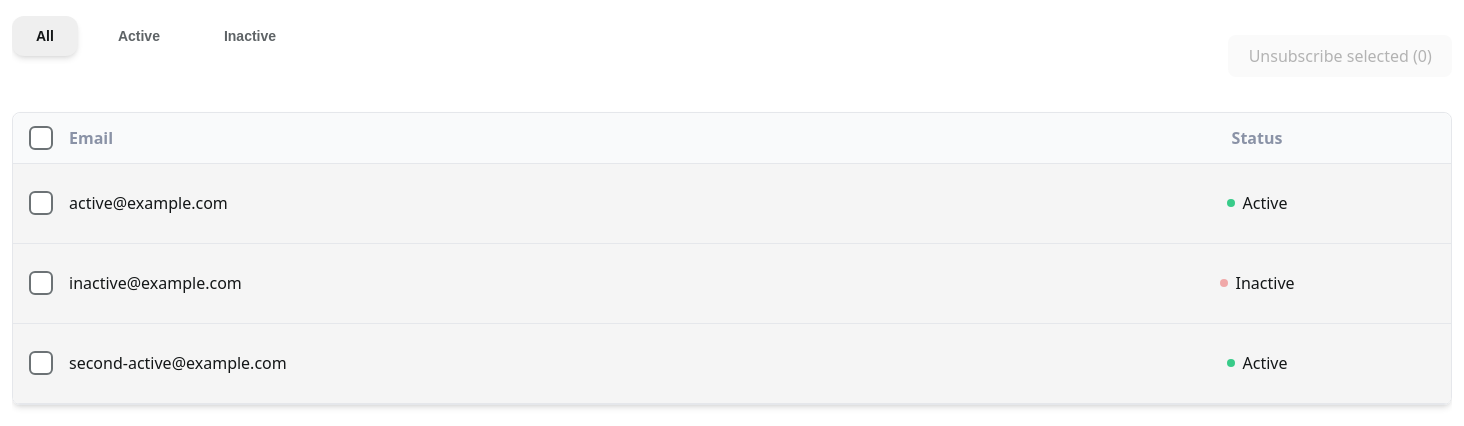
UI Component: TableSubscriptions › should select all filtered rows and show selected counter
This screenshot has width=1464, height=426.
Click the button "Active" at (139,36), box [94,16,184,56]
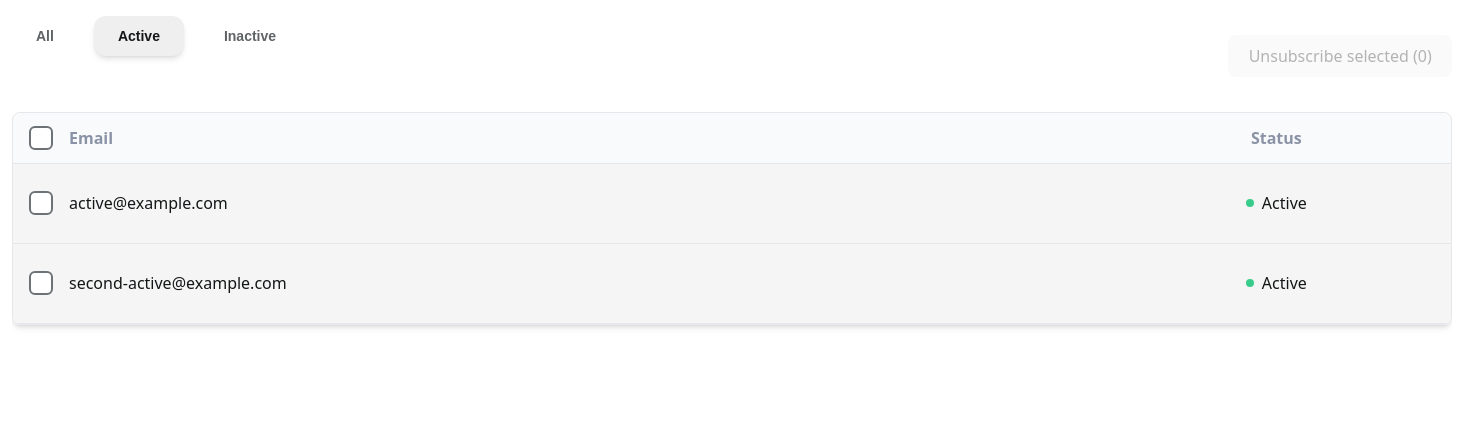
Click the checkbox next to "Email" at (41,138), box [29,126,53,150]
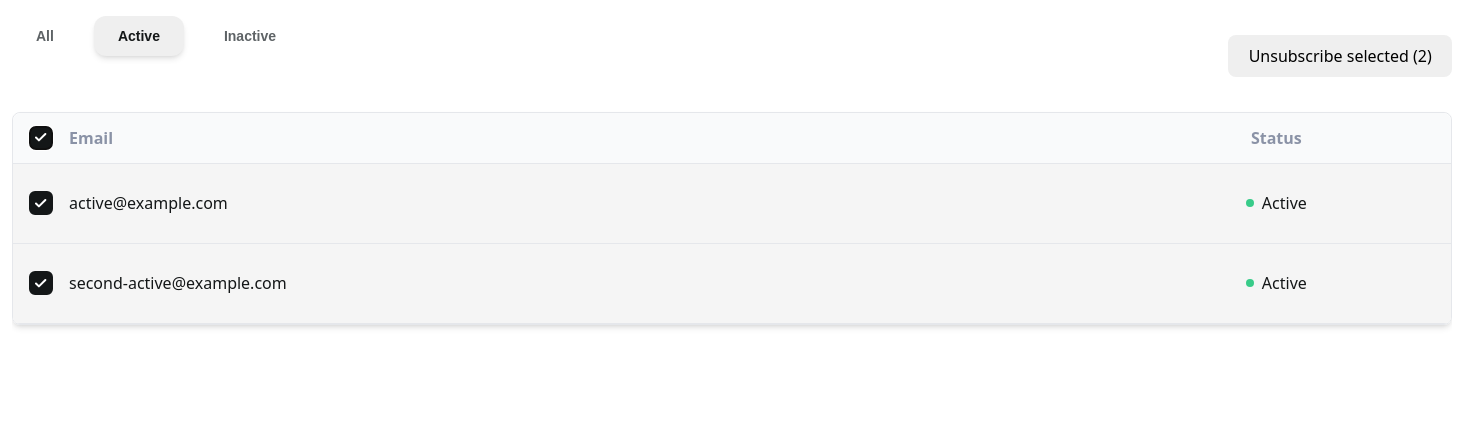
Now the button "Unsubscribe selected (2)" is shown, box [1228,35,1452,77]
